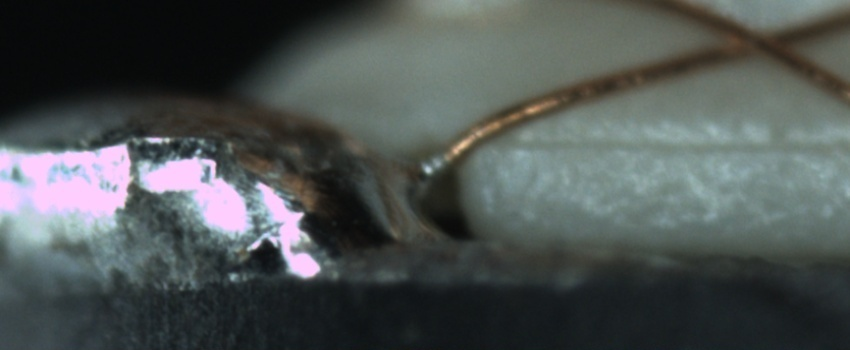CL: (715, 13, 810, 69)
DL: (505, 114, 849, 173)
TS: (420, 150, 449, 181)
